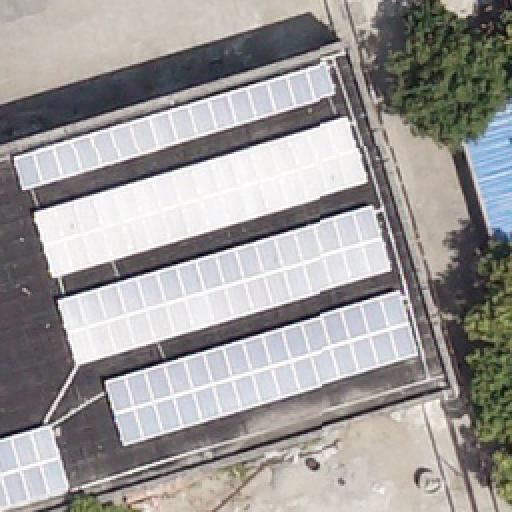solar-panel: (33, 119, 367, 281), (55, 206, 393, 366), (103, 291, 417, 445), (11, 67, 333, 189), (1, 425, 71, 511)
